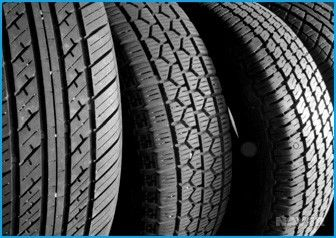new_condition: (2, 1, 117, 237), (132, 1, 232, 237), (246, 67, 336, 232)
